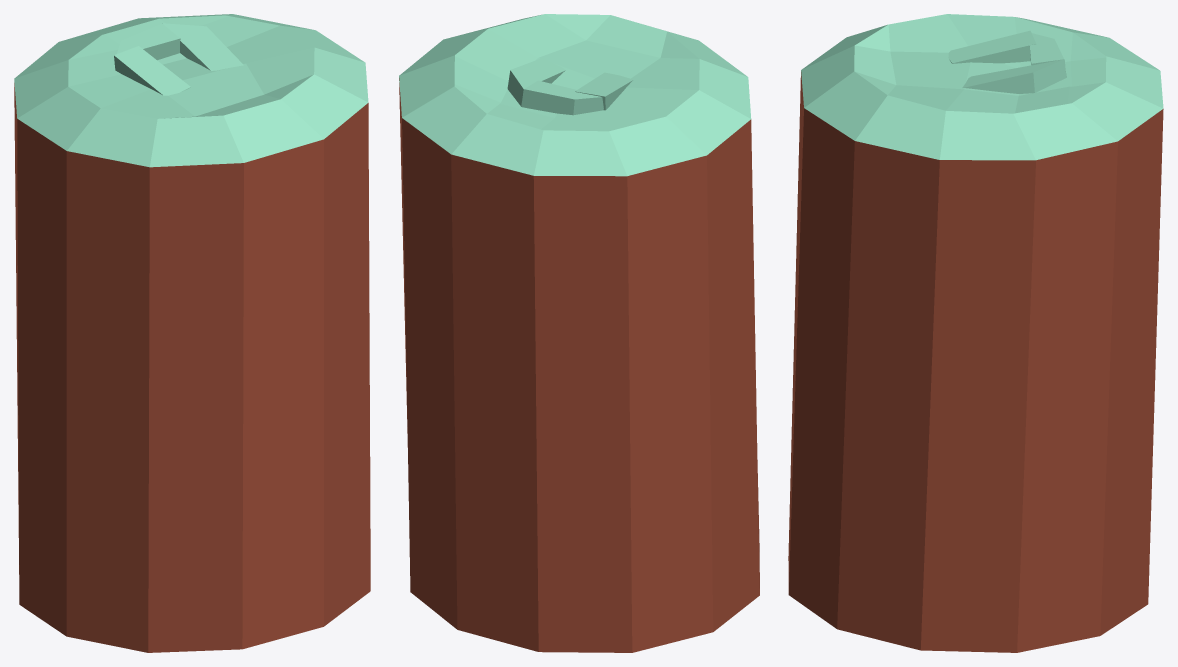
The model's file is canOfCola2.fbx.
3 views of the same model, side by side, from view 1: azimuth 30°, elevation 25°; view 2: azimuth 150°, elevation 25°; view 3: azimuth 270°, elevation 25° (orthographic). The views are drawn at different scales.
Visible parts, largest first — view 1: group688375807; view 2: group688375807; view 3: group688375807.
Boxes of the visible parts, <box> form: group688375807: <box>14,14,370,652</box>; group688375807: <box>399,14,759,652</box>; group688375807: <box>788,14,1163,652</box>.
Size of the model in its own units: 148 by 241 by 152.
